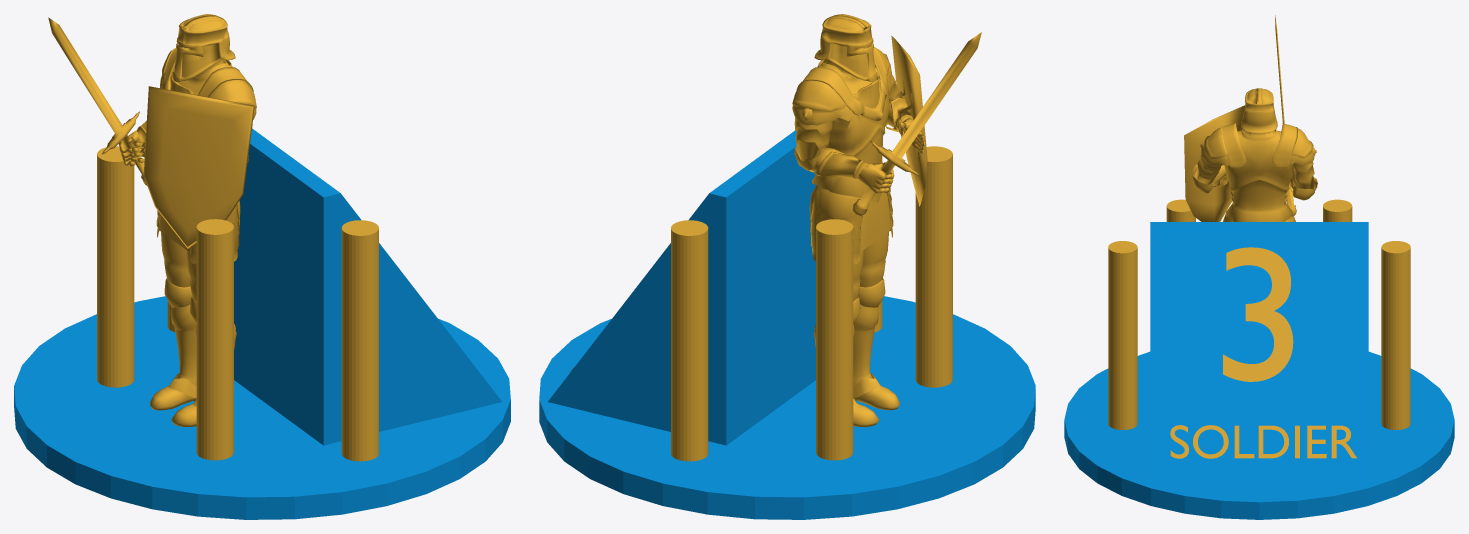
The model's file is TCSoldier3.fbx.
3 renders of one model, left to right at view 1: azimuth 30°, elevation 25°; view 2: azimuth 150°, elevation 25°; view 3: azimuth 270°, elevation 25°, orthographic. The views are drawn at different scales.
Visible parts, largest first — view 1: Soldier3; view 2: Soldier3; view 3: Soldier3.
Boxes of the visible parts, x1,y1,x2,y2 form: Soldier3: (14, 14, 510, 519); Soldier3: (539, 14, 1035, 519); Soldier3: (1064, 15, 1454, 519).
Bounding box in the file's own units: 180 × 176 × 180.
